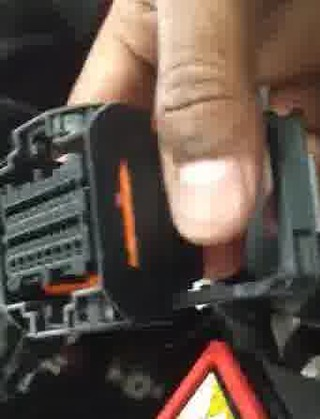connector: (1, 103, 156, 344)
